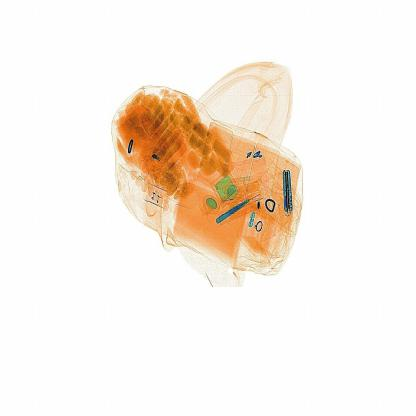scissors: (279, 170, 296, 217)
